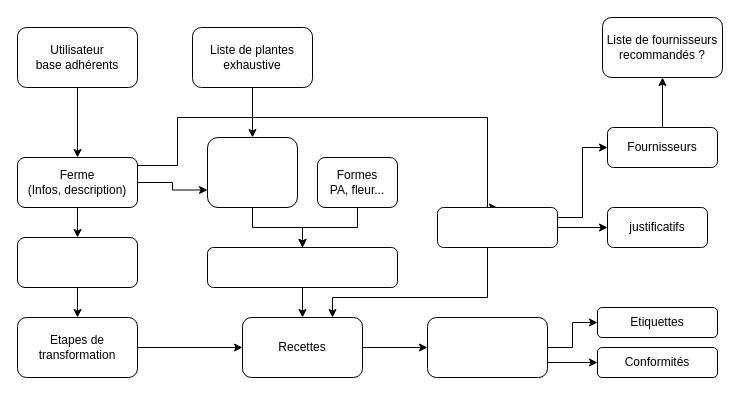
Image size: 740x395. Some labels were removed from this diagram. Here are the shapes that lost their labels. From the top down, the box of each, then its label:
(206, 136, 298, 208): Plantes cultivées et cueillies
(436, 206, 558, 248): Intrants
(16, 236, 138, 288): Outils : séchoir, labo, alambic..
(206, 246, 398, 288): Matières premières produites
(426, 316, 548, 378): Produits
